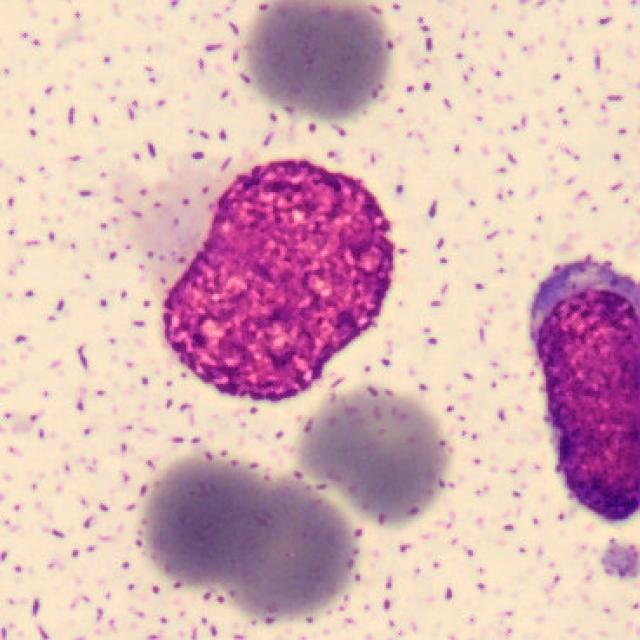Mieloblasto: (165, 159, 395, 401), (527, 258, 640, 521)
